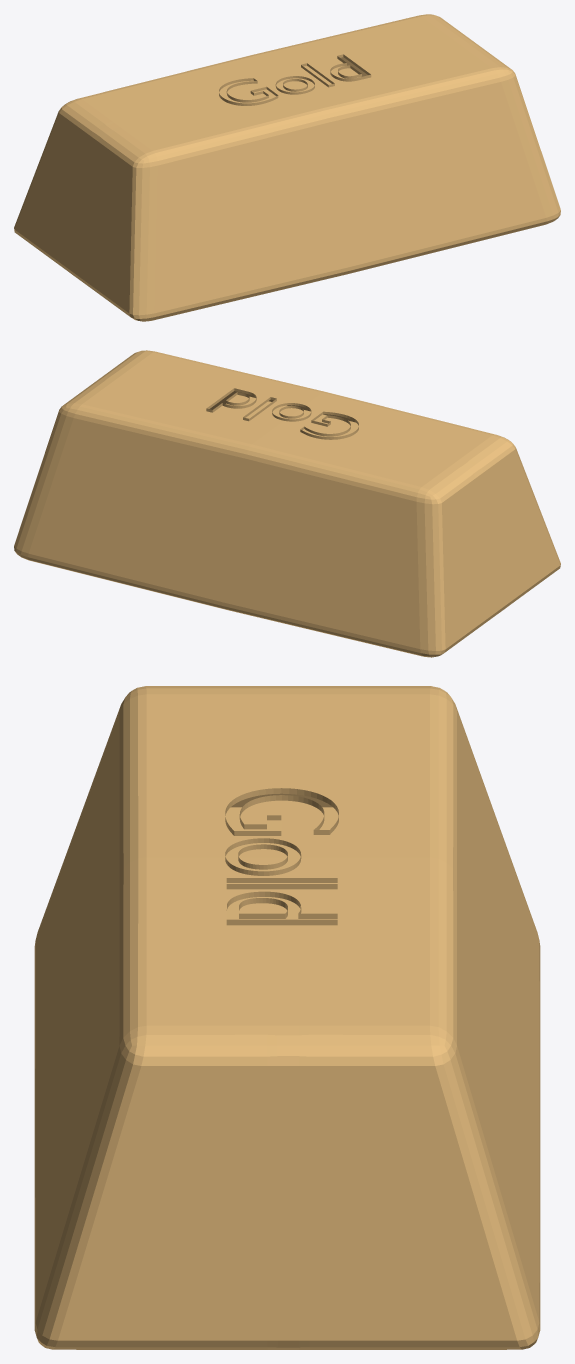
Rendered from gold (2).fbx.
3 renders of one model, top to bottom at view 1: azimuth 30°, elevation 25°; view 2: azimuth 150°, elevation 25°; view 3: azimuth 270°, elevation 25°, orthographic. The views are drawn at different scales.
Parts seen in each view (by area): view 1: Plane; view 2: Plane; view 3: Plane.
Part boxes in pixels (box(x1,y1,x2,y2)): Plane: box(14, 14, 560, 321); Plane: box(14, 350, 560, 657); Plane: box(34, 686, 540, 1349).
Bounding box in the file's own units: 612 × 203 × 311.
